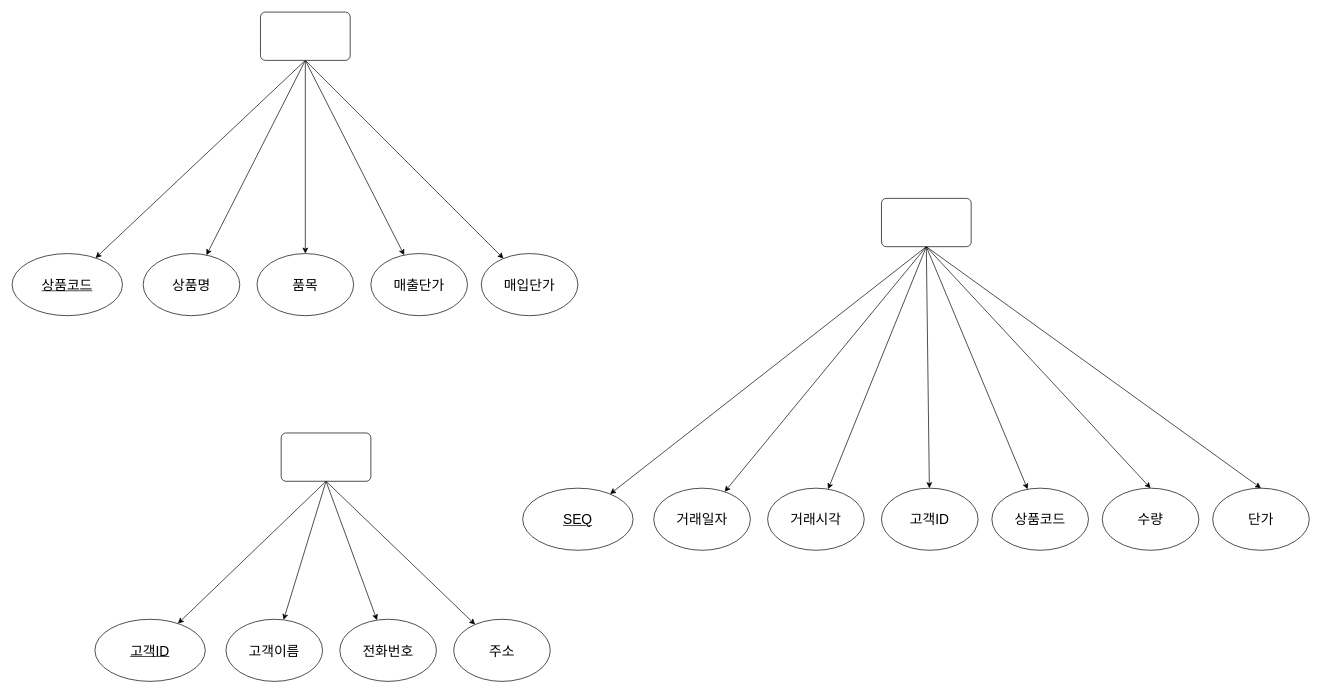
Some shapes in this 1321 by 693 pixel diagram are drawn without their labels. Each missing label, with the centre of its shape:
"고객정보" belongs at point (325, 456).
"상품정보" belongs at point (305, 35).
"판매내역" belongs at point (926, 222).
